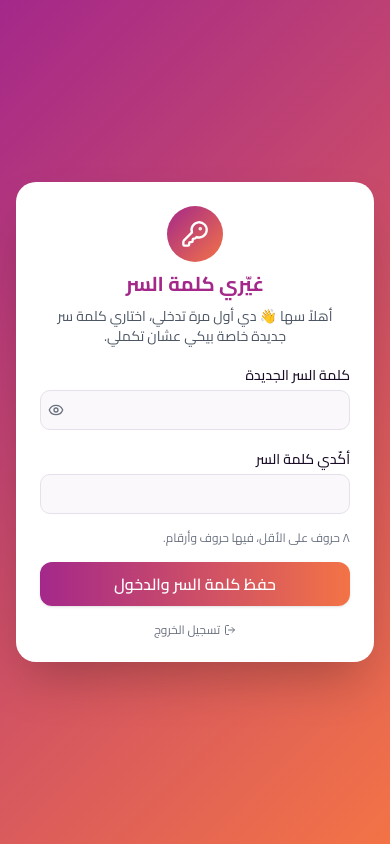
Test: force password change gate › validates locally, then calls updateUser with the new password and clears the flag
Later steps or results of the test are not shown.
Type "short1" into the password field labelled "كلمة السر الجديدة" at (195, 410), box [40,390,350,430]
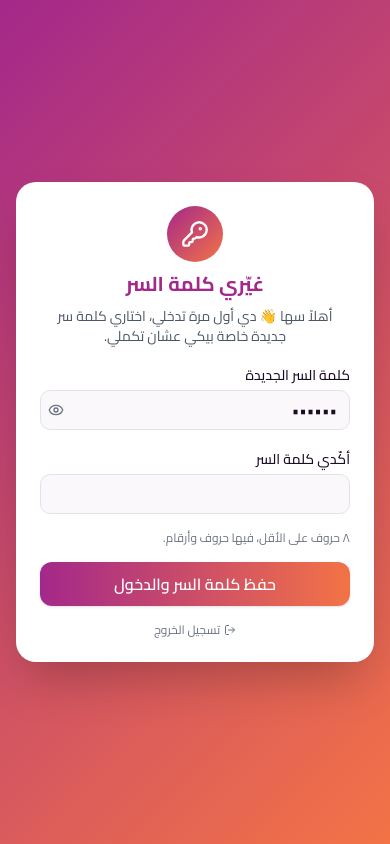
Type "short1" into the password field labelled "أكّدي كلمة السر" at (195, 494), box [40,474,350,514]
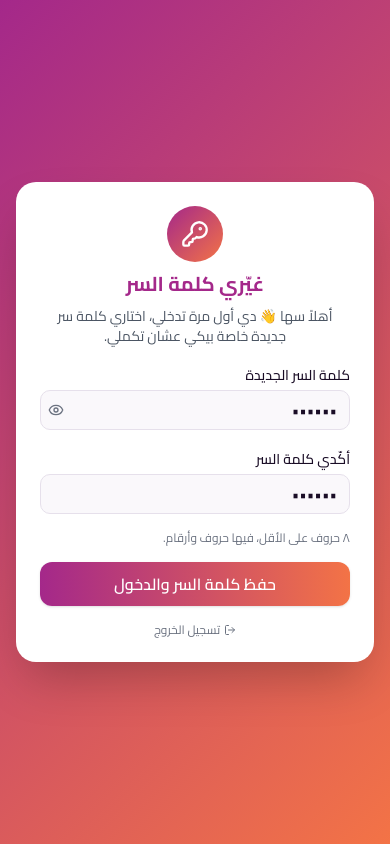
Click the button "حفظ كلمة السر والدخول" at (195, 584), box [40,562,350,606]
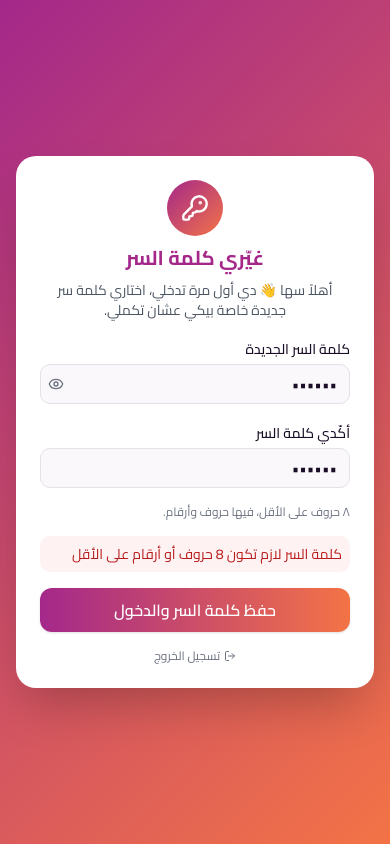
Check: the message "كلمة السر لازم تكون 8 حروف أو أرقام على الأقل" is shown, box [40,536,350,572]
